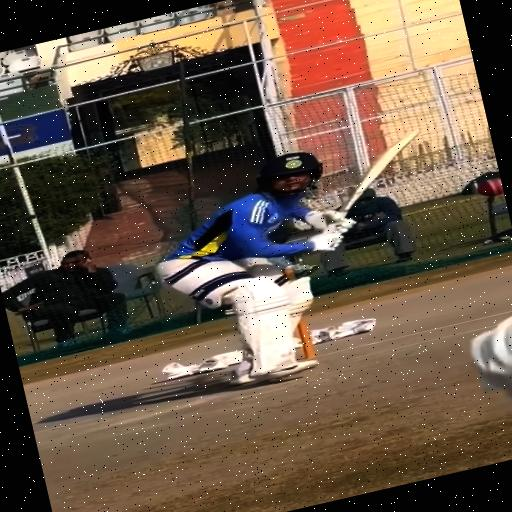Cricket bat: (341, 131, 418, 216)
